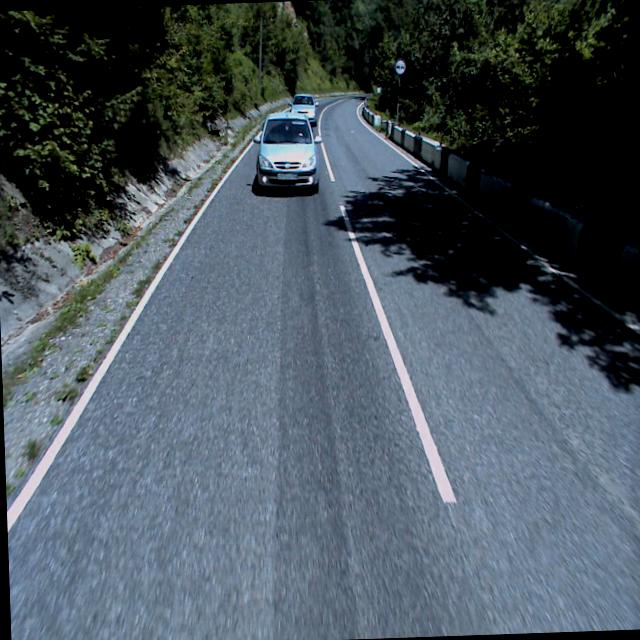road: (7, 93, 640, 640)
